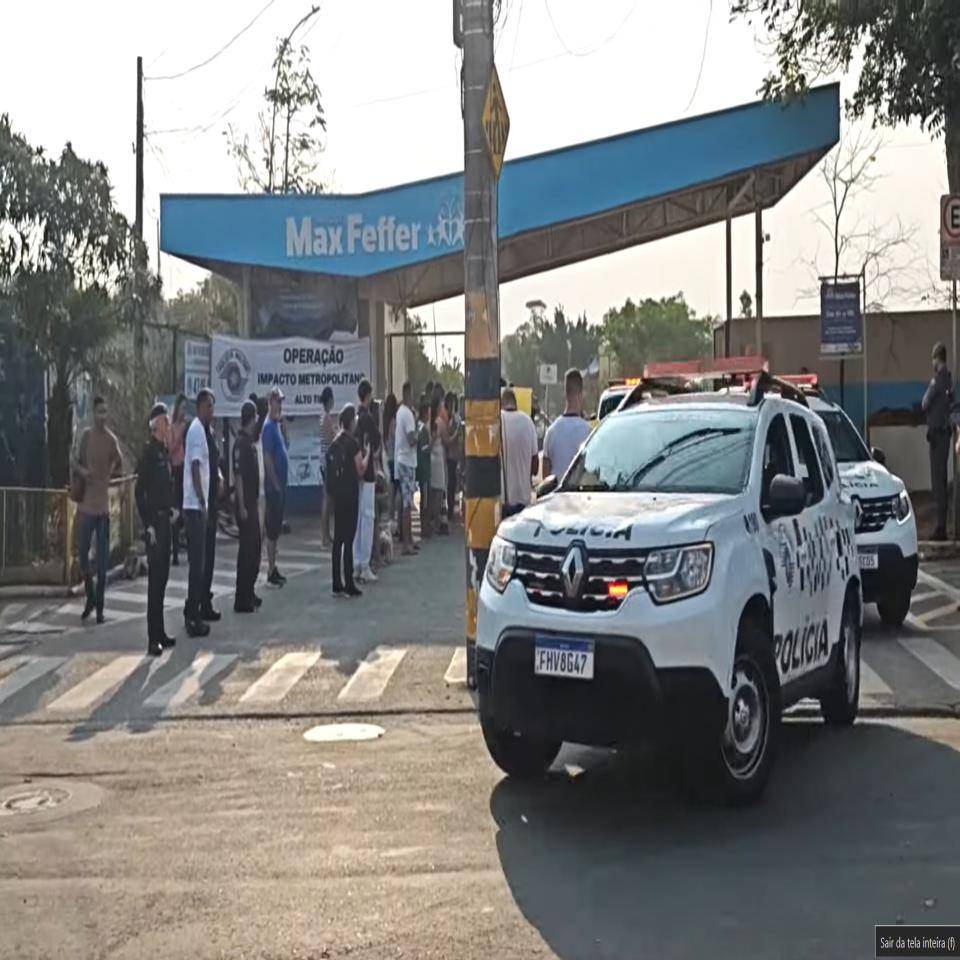viatura: (475, 357, 867, 808)
